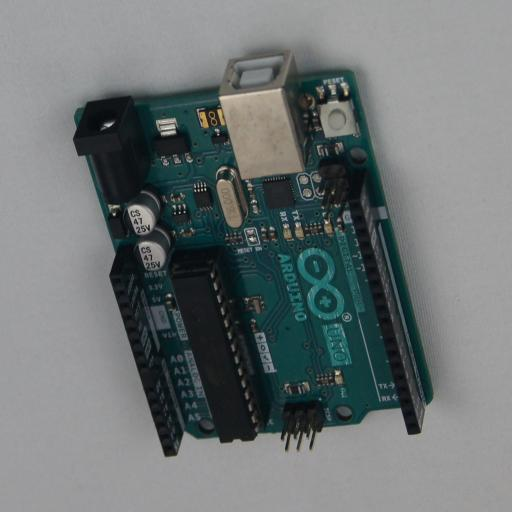Arduino Uno -Green-: (73, 50, 433, 457)
